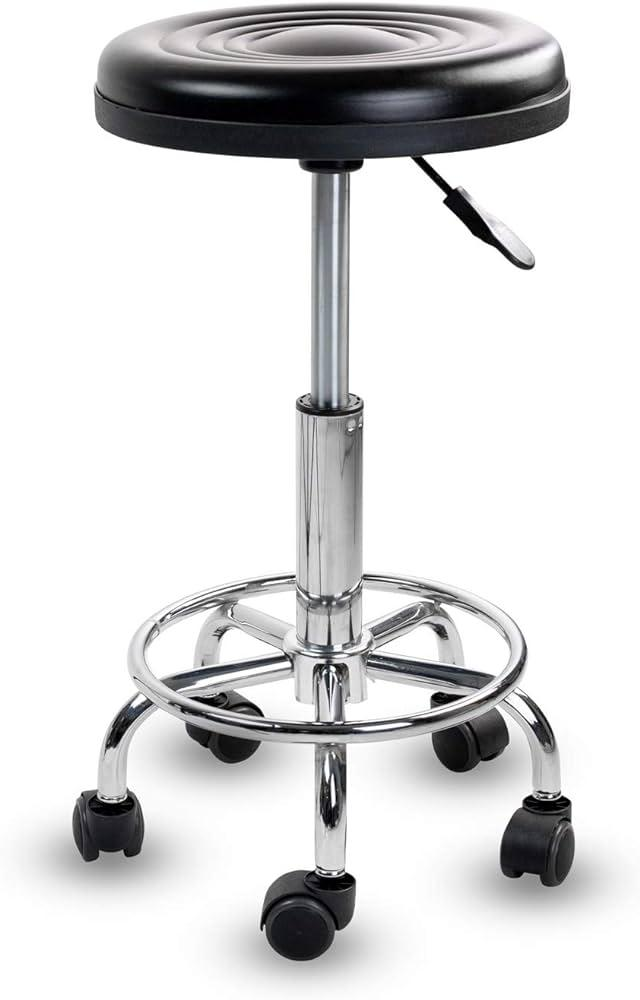stool: (72, 1, 576, 961)
